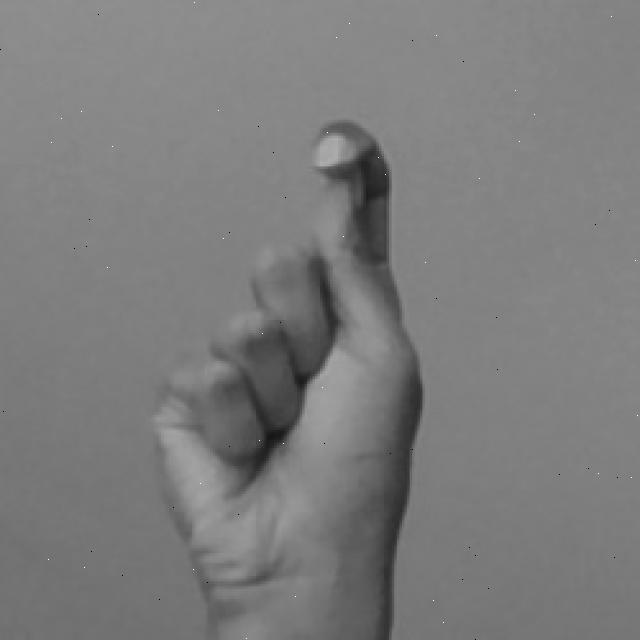T: (146, 117, 429, 640)
